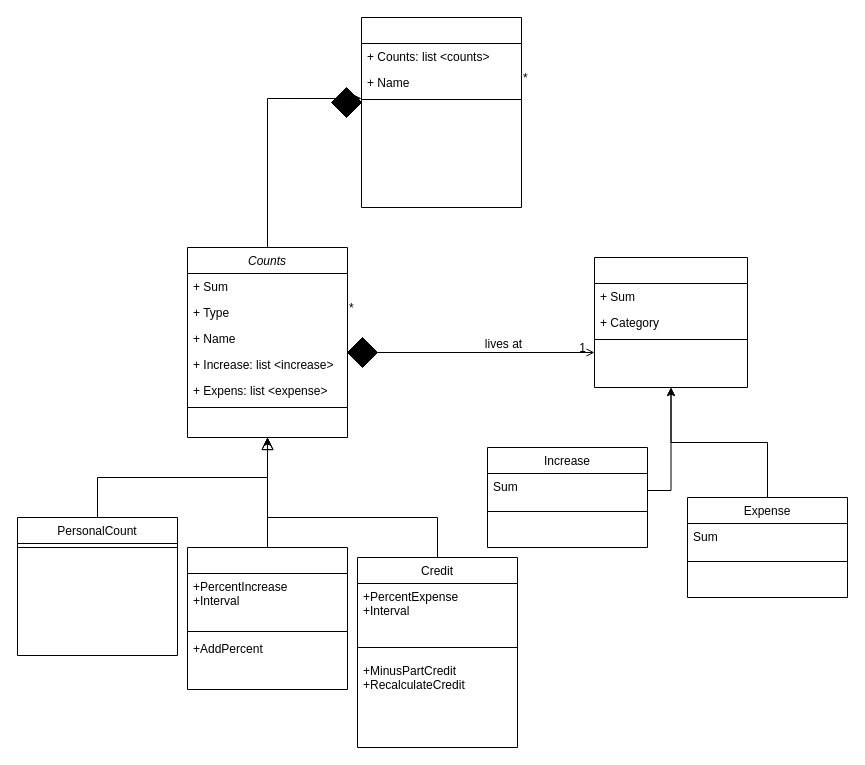
This 865x765 diagram has some shape labels left out. The shapes that lost their labels are listed below. From the top down, each one's box as (x1, y1, x2, y2) in pixels, then its label:
(360, 16, 522, 208): Space
(594, 256, 748, 388): Transaction
(186, 546, 348, 690): Deposit
